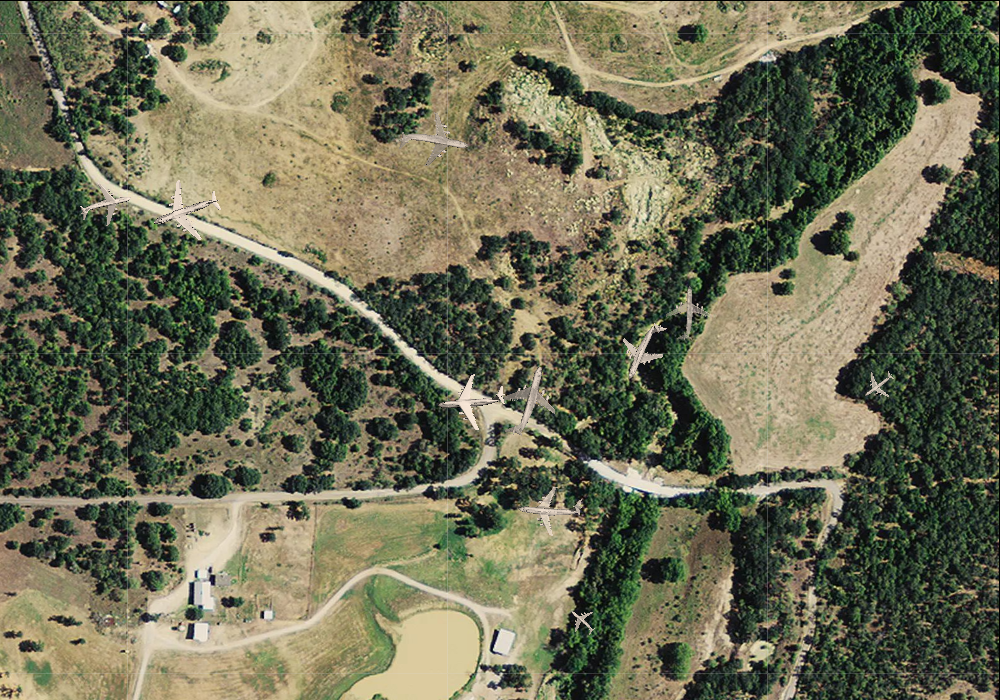plane: (142, 168, 230, 253), (486, 357, 568, 445), (393, 104, 474, 180), (607, 312, 681, 390), (435, 366, 507, 434), (516, 477, 584, 540), (74, 175, 136, 235), (661, 285, 714, 341), (855, 362, 902, 408), (561, 601, 603, 642)
